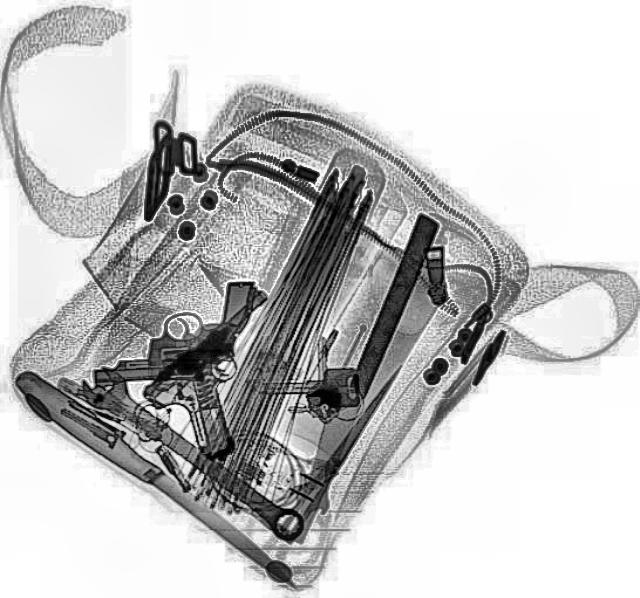Gun: (138, 289, 338, 460), (85, 280, 259, 386)
Knife: (4, 362, 310, 596), (268, 208, 438, 546), (274, 361, 416, 545)
Wrench: (70, 360, 316, 549)
